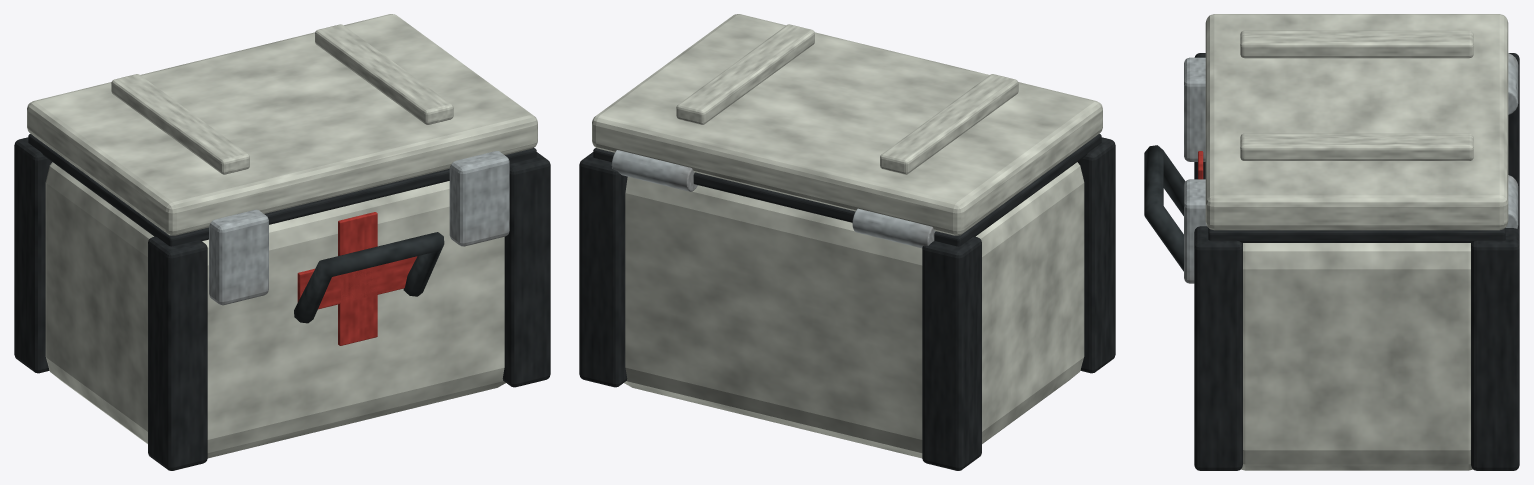
File: GR_FirstAidCase_02.glb
3 renders of one model, left to right at view 1: azimuth 30°, elevation 25°; view 2: azimuth 150°, elevation 25°; view 3: azimuth 270°, elevation 25°, orthographic. The views are drawn at different scales.
Visible parts, largest first — view 1: Static; view 2: Static; view 3: Static.
Boxes of the visible parts, box(x1,y1,x2,y2) form: Static: box(14, 14, 550, 470); Static: box(579, 14, 1115, 470); Static: box(1144, 14, 1519, 470).
Bounding box in the file's own units: 0.4522 × 0.3285 × 0.3698.
Materials: 1 (1 with a texture image).
